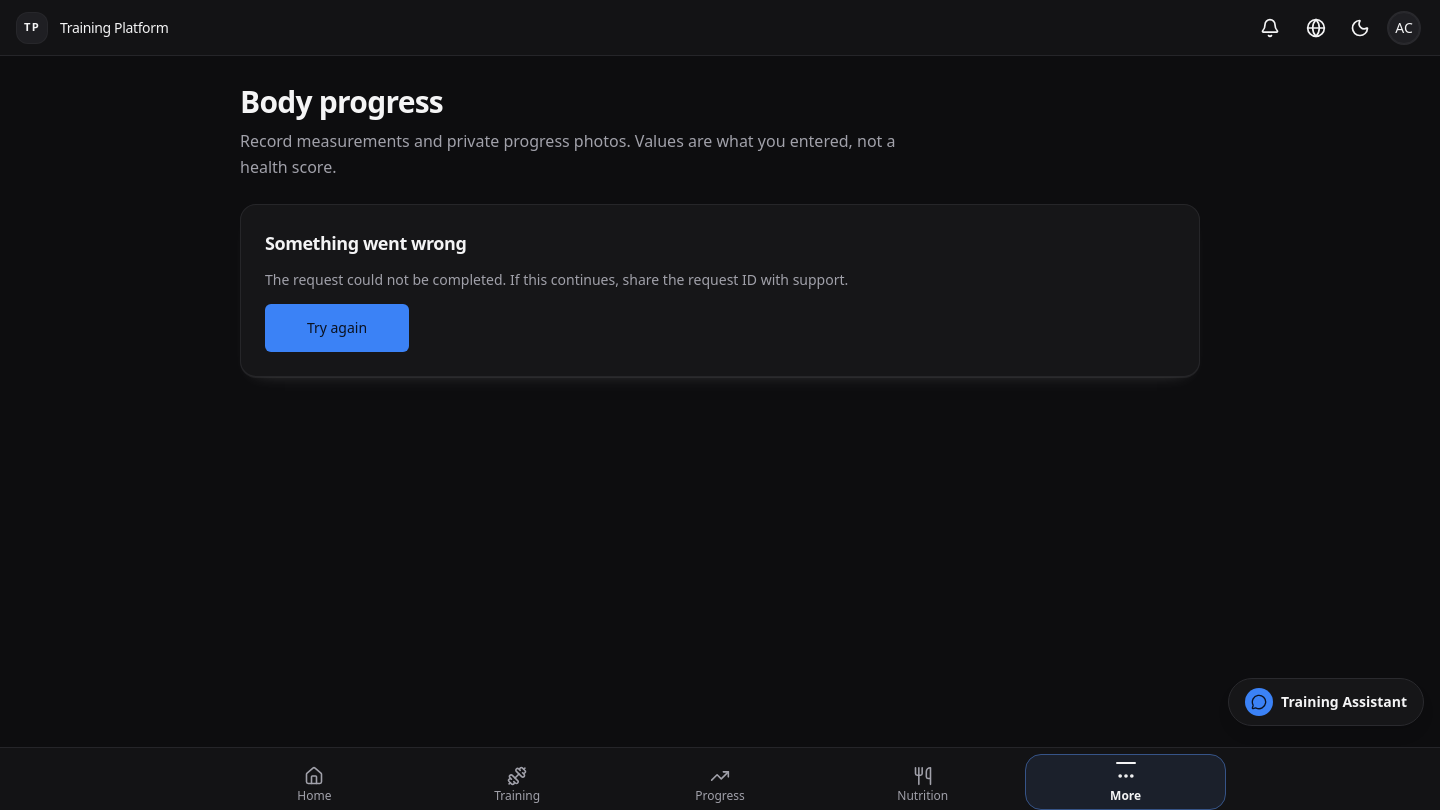
Client body progress › retries a recoverable error without leaving the Client shell
The width and height of the screenshot is (1440, 810).
Expected: the navigation bar named "Main" is shown, top-left (0, 747), bottom-right (1439, 809)
Click the button "Try again" at coordinates (337, 328), box top-left (265, 304), bottom-right (409, 352)
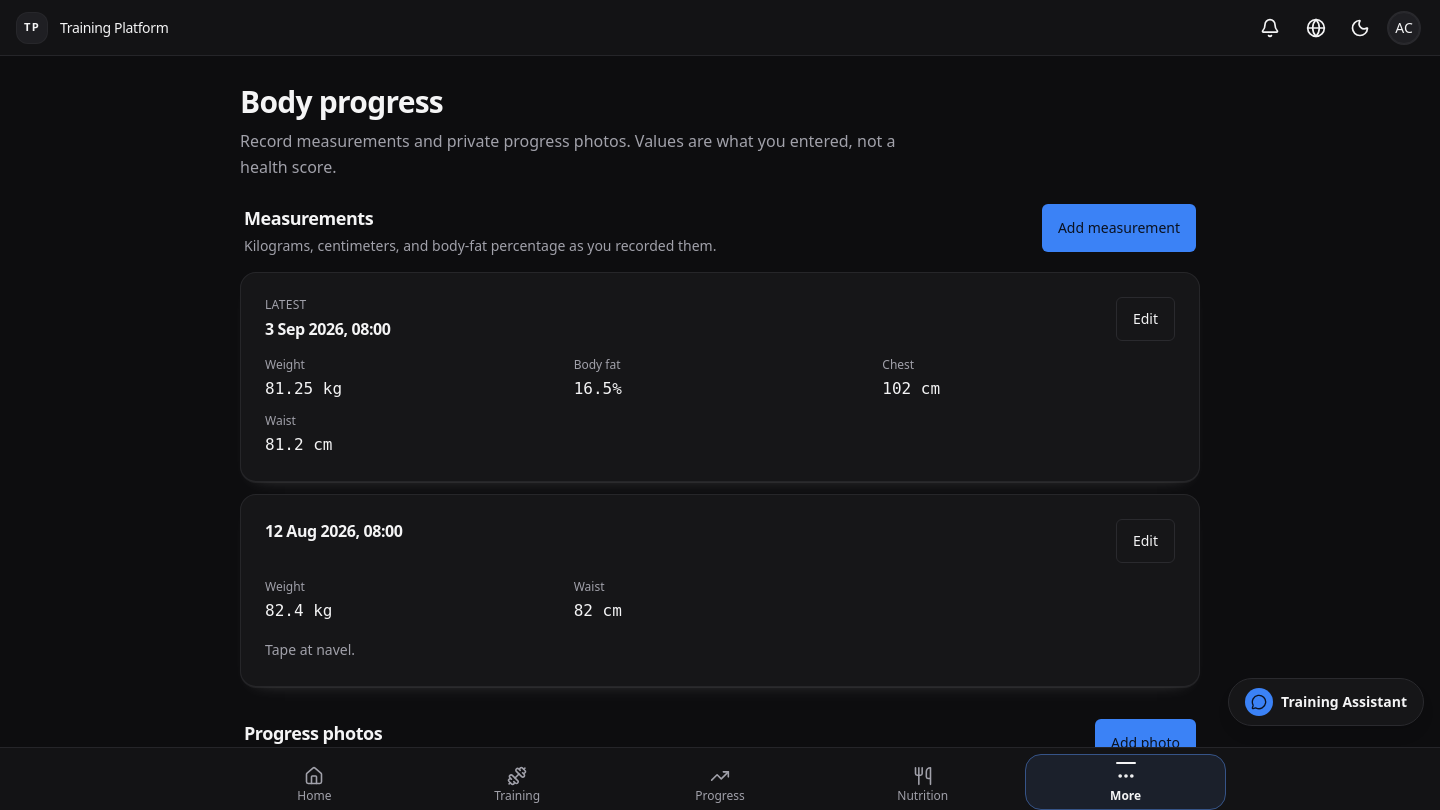
Expected: the text "81.25 kg" is shown, top-left (265, 379), bottom-right (342, 398)
